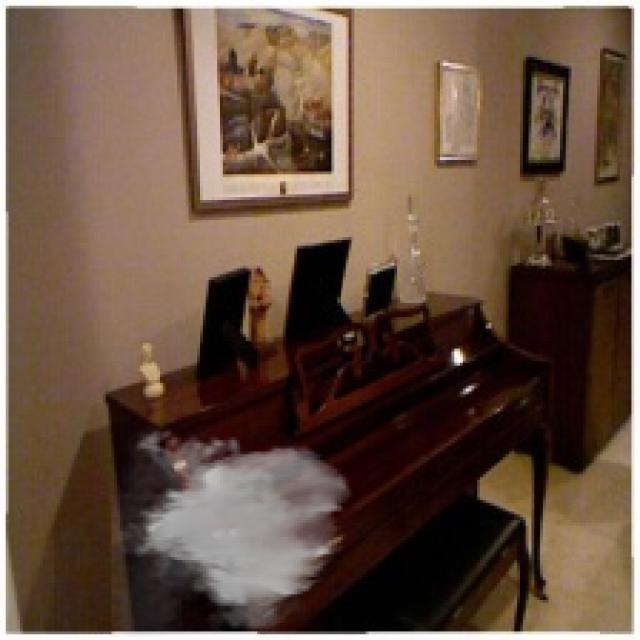smoke: (112, 423, 354, 637)
